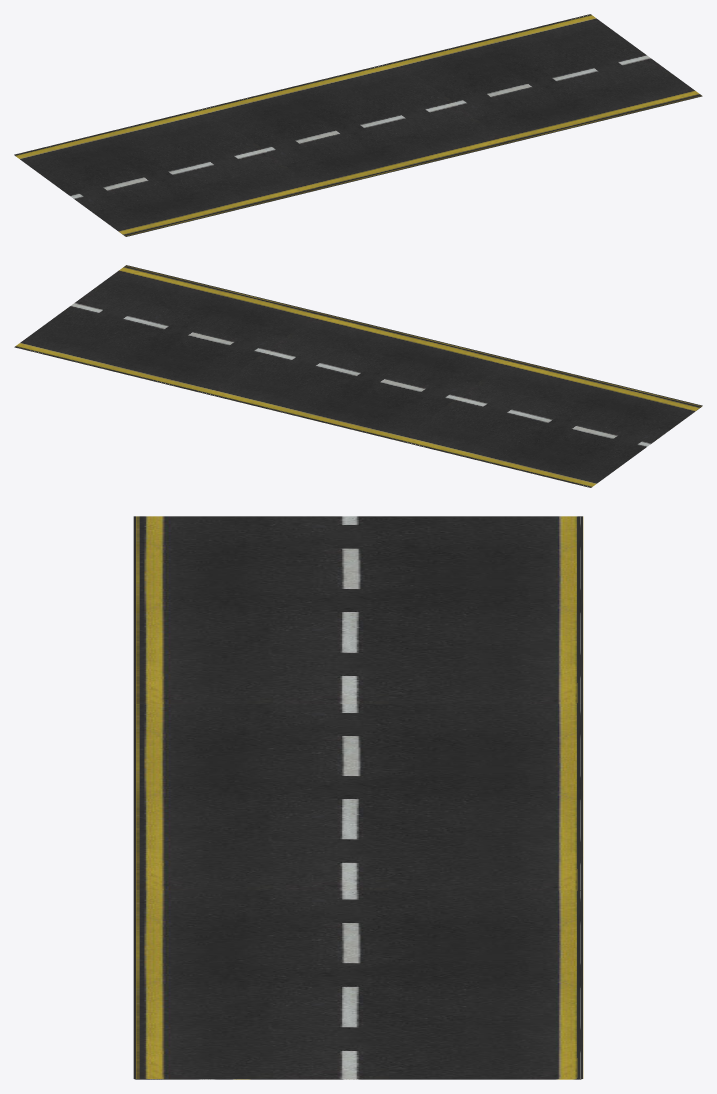
File: road.dae
3 renders of one model, top to bottom at view 1: azimuth 30°, elevation 25°; view 2: azimuth 150°, elevation 25°; view 3: azimuth 270°, elevation 25°, orthographic. The views are drawn at different scales.
Visible parts, largest first — view 1: beton; view 2: beton; view 3: beton.
Boxes of the visible parts, x1,y1,x2,y2 form: beton: (14,14,702,236); beton: (14,265,702,487); beton: (133,516,583,1079).
Size of the model in its own units: 23 by 7.77 by 0.0155.
1 material, 1 textured.
